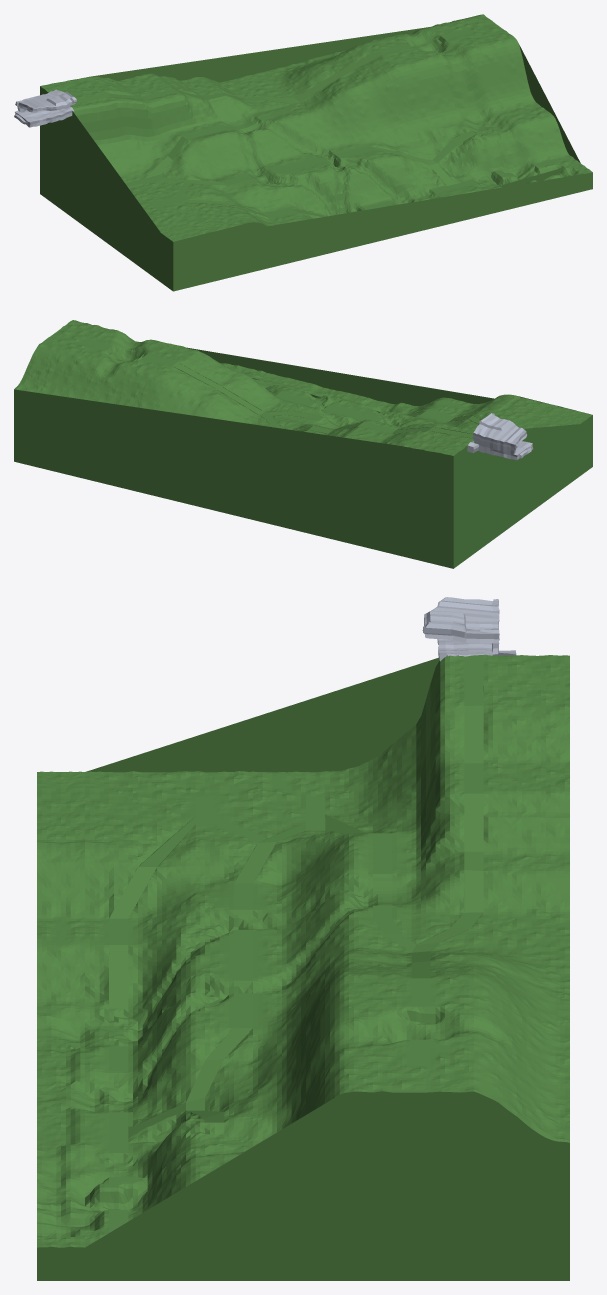
Rendered from 1_Forest_C2_Island.fbx.
3 views of the same model, one above another, from view 1: azimuth 30°, elevation 25°; view 2: azimuth 150°, elevation 25°; view 3: azimuth 270°, elevation 25° (orthographic). The views are drawn at different scales.
Parts seen in each view (by area): view 1: Island_D, Rock_Island_D.002, Rock_Island_D; view 2: Island_D, Rock_Island_D.002, Rock_Island_D, Rock_Island_D.001; view 3: Island_D, Rock_Island_D.002, Rock_Island_D.
Boxes of the visible parts, x1,y1,x2,y2 form: Island_D: (40,14,592,291); Rock_Island_D.002: (15,89,76,112); Rock_Island_D: (14,106,74,127); Island_D: (14,320,592,568); Rock_Island_D.002: (473,413,526,448); Rock_Island_D: (467,441,533,460); Rock_Island_D.001: (472,433,515,454); Island_D: (37,654,569,1280); Rock_Island_D.002: (422,597,499,643); Rock_Island_D: (437,638,516,661).
Size of the model in its own units: 35461 by 71566 by 18120.
